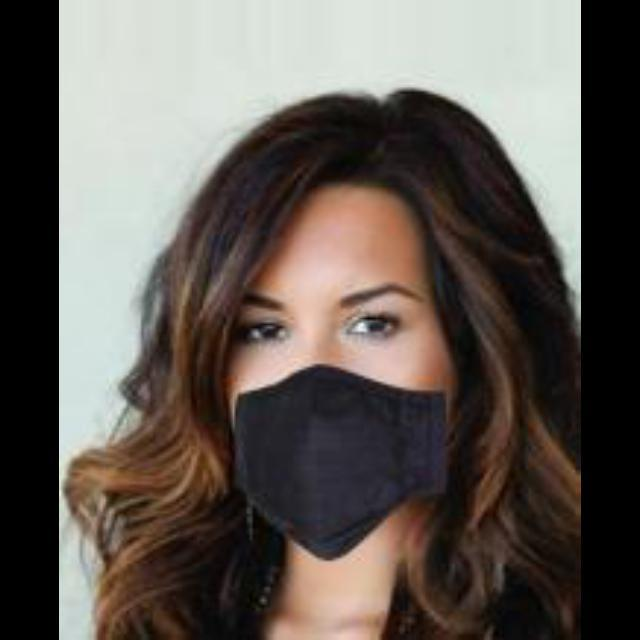suspicion: (187, 96, 553, 584)
